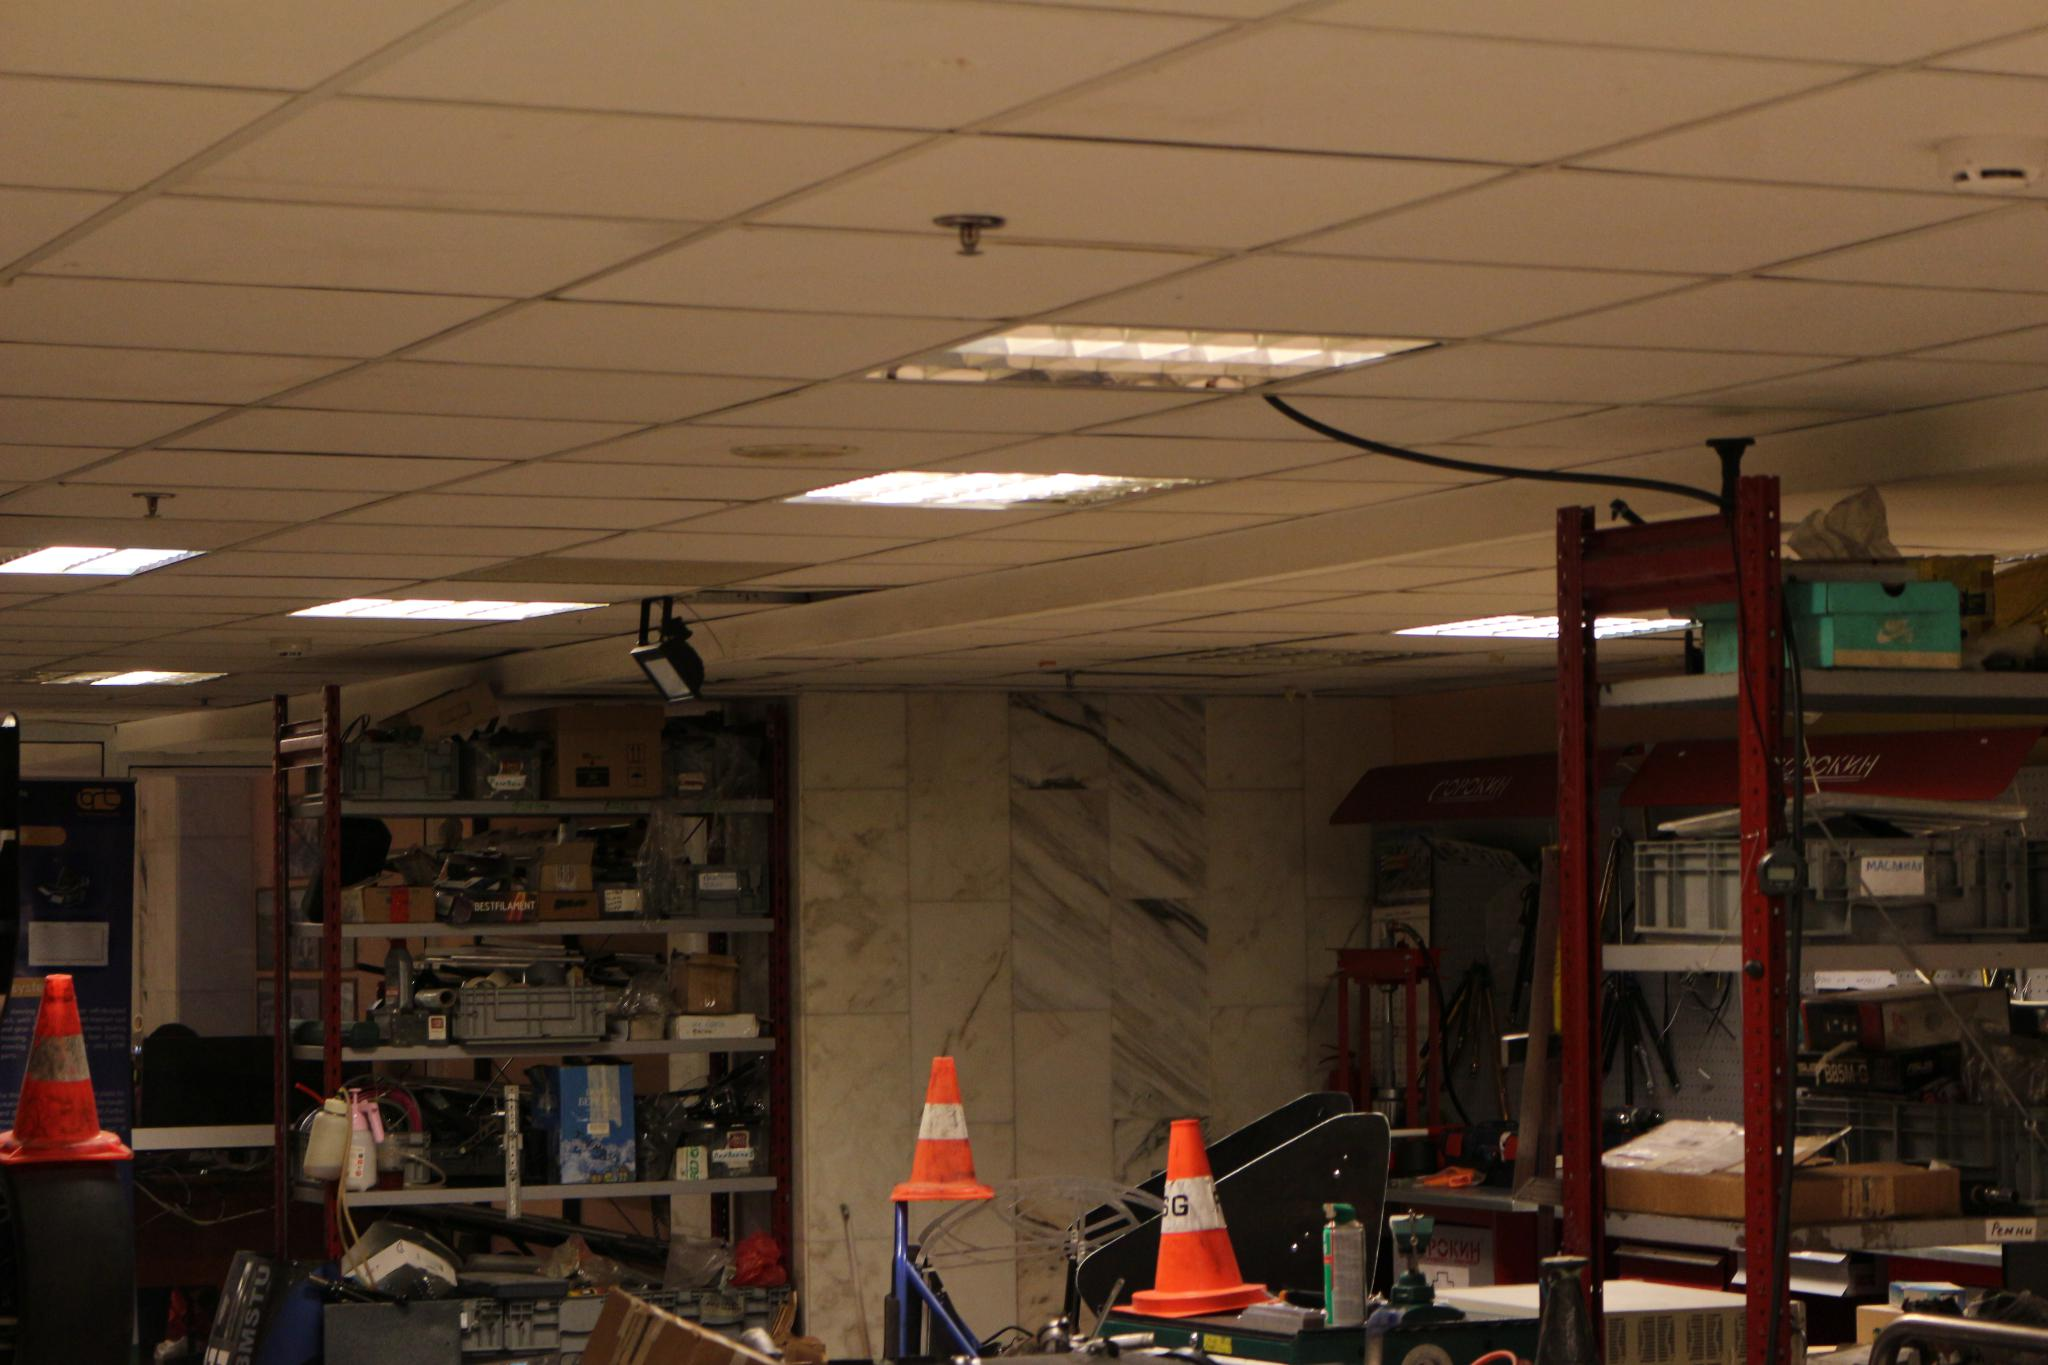Orange_Cone: (1118, 1114, 1274, 1316), (3, 961, 137, 1161), (885, 1050, 994, 1210)
